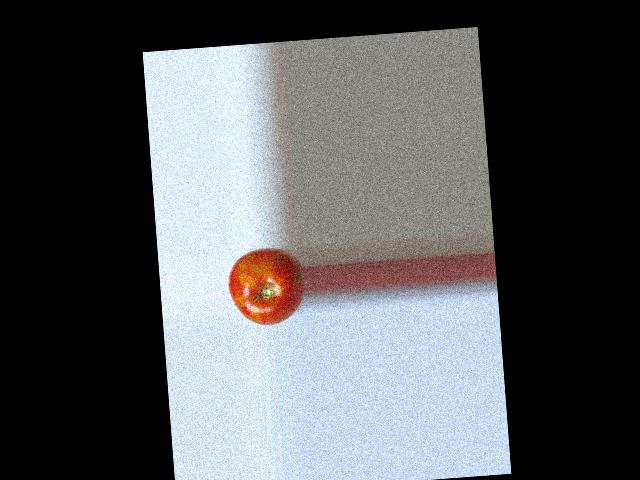tomato: (226, 245, 306, 327)
